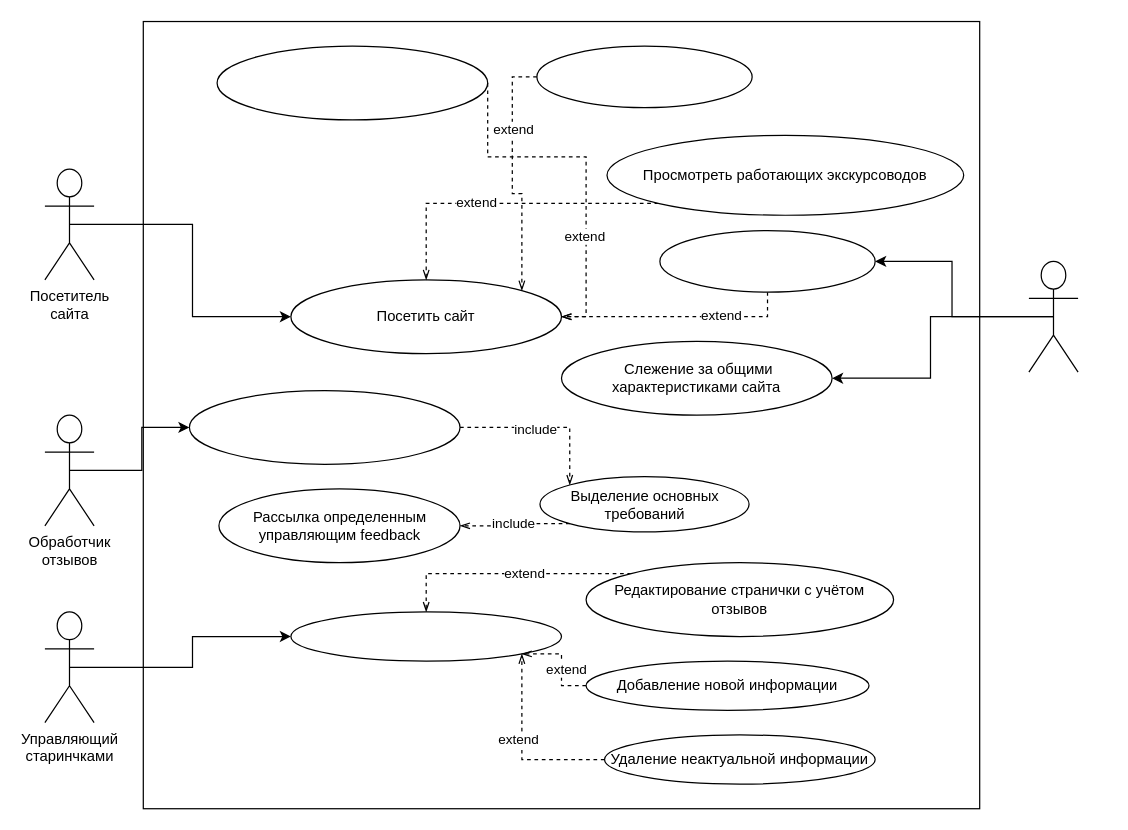
The diagram is 1128 pixels wide and 830 high, and some of its shapes have lost their labels. Each missing label, with the centre of its shape:
"Администратор" belongs at point 1053,316.
"Купить билет" belongs at point 644,76.
"Оставить отзыв" belongs at point 767,260.
"Просмотр оставленных отзывов" belongs at point 324,426.
"Просмотреть интерактивный музей" belongs at point 352,82.
"Редактирование странички" belongs at point 425,636.
